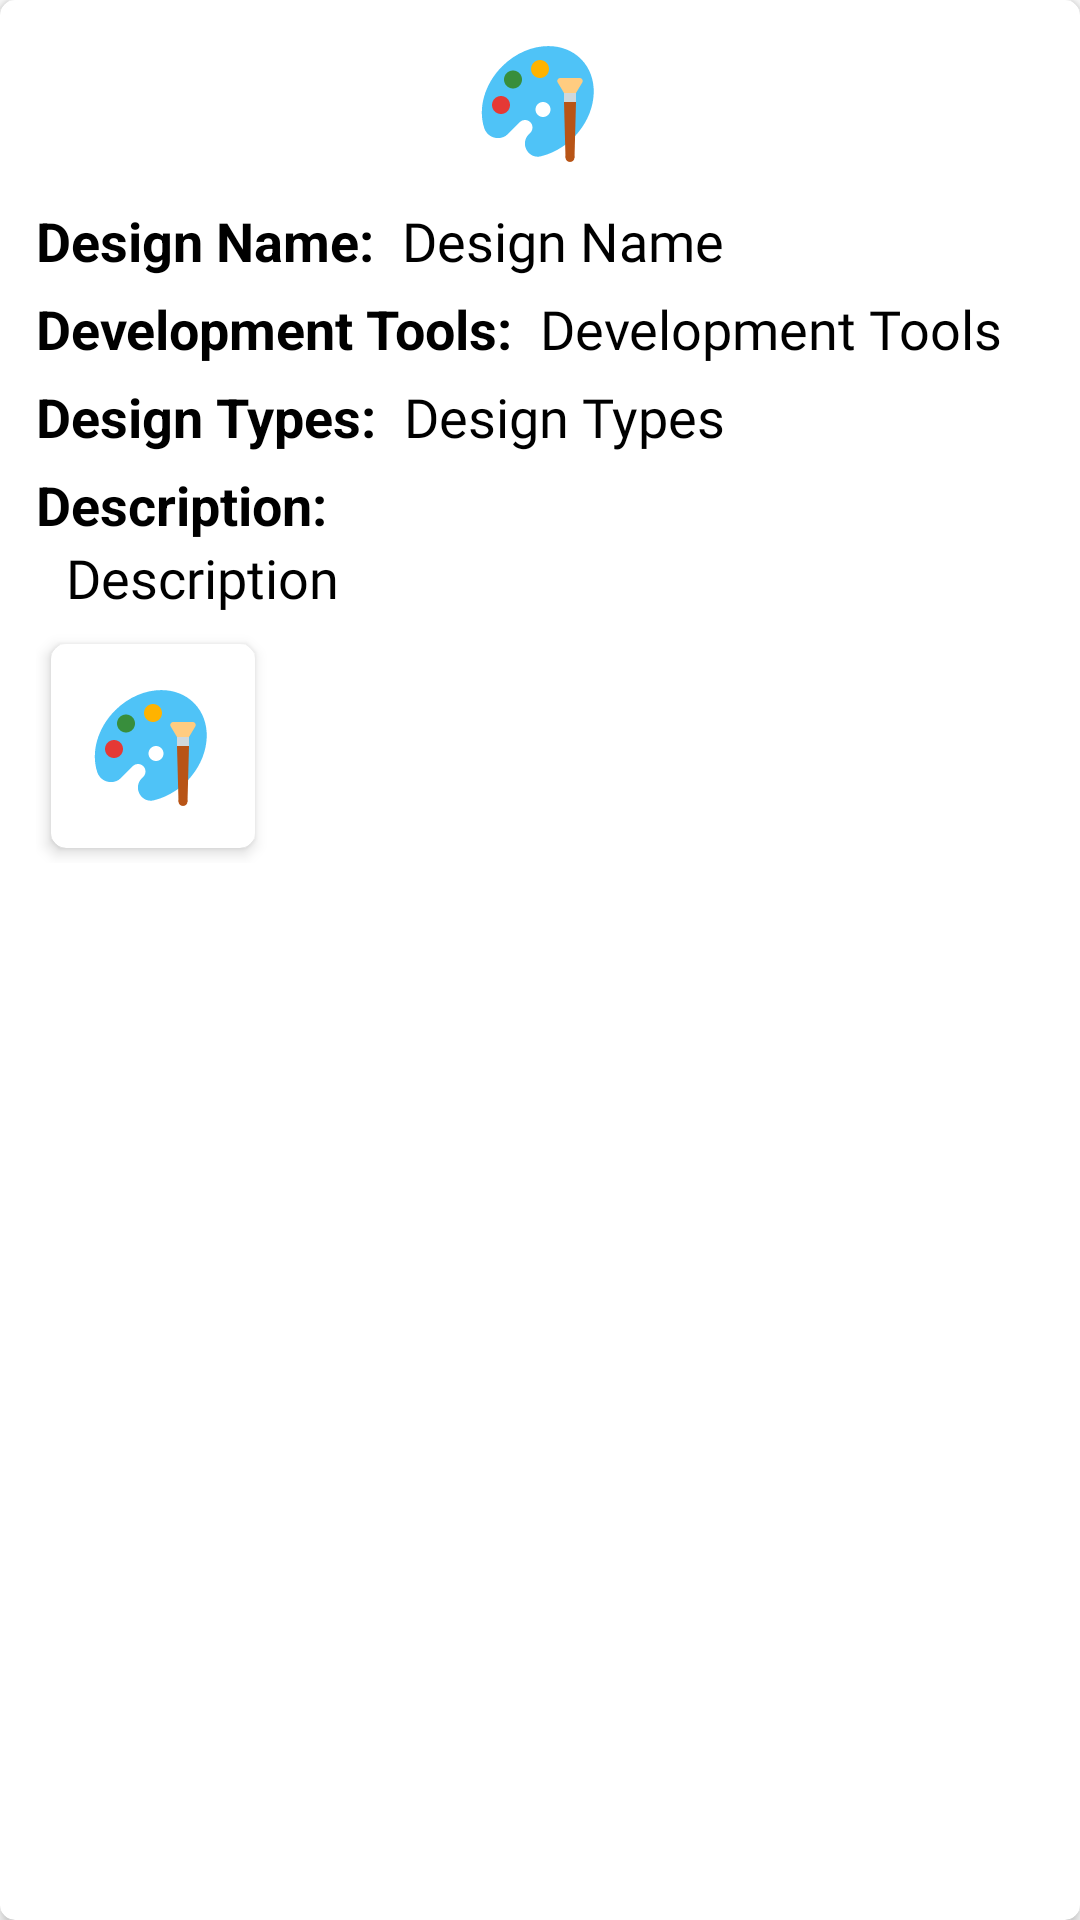

Screen size 1080×1920. Icon name, then its box in pixels as (x1, y1, x2, y2):
graphics: (481, 46, 594, 162), (94, 690, 207, 806)
